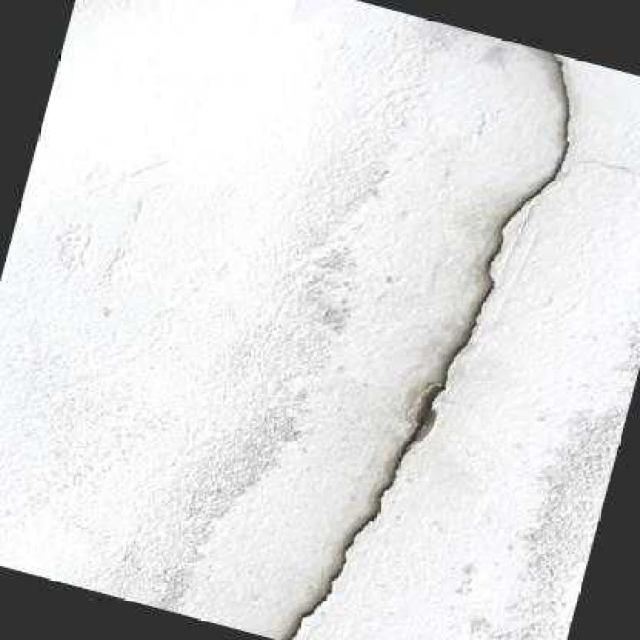D00: (273, 49, 573, 640)
